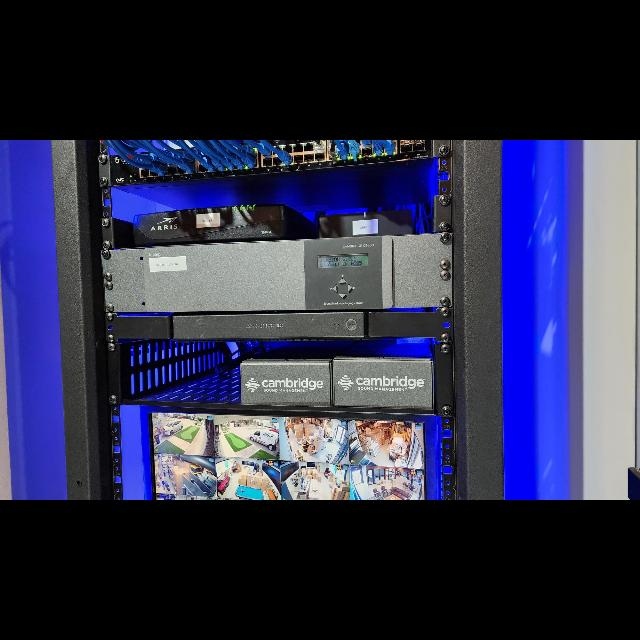Server: (48, 140, 504, 500)
